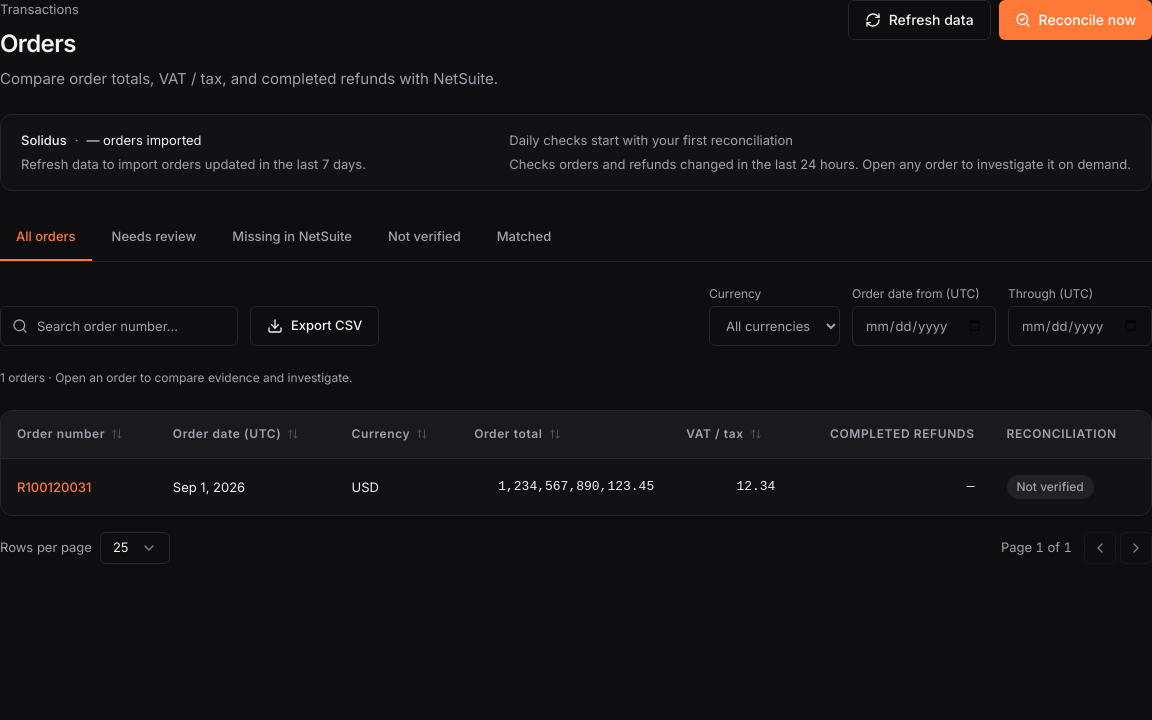
Test: shows exact amounts and keeps missing refunds visibly unverified
expect the text "1,234,567,890,123.45" is shown: met, box [474,477,654,497]
What coordinates should you click on to do the following:
click the button named "Open order R100120031"
I would click on:
 (54, 487)
Its box is [17,477,91,497].
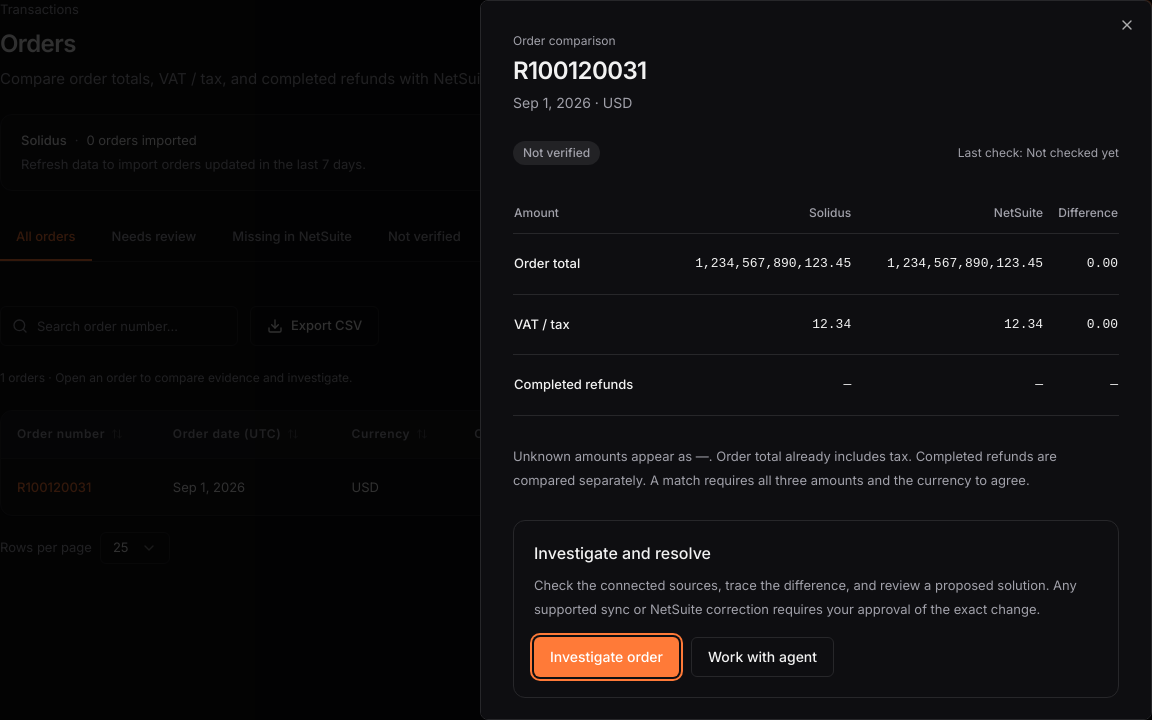
expect the column heading "Completed refunds" is shown: met, box [513,354,660,415]
expect the text "Unknown amounts" is shown: met, box [513,448,1057,488]
